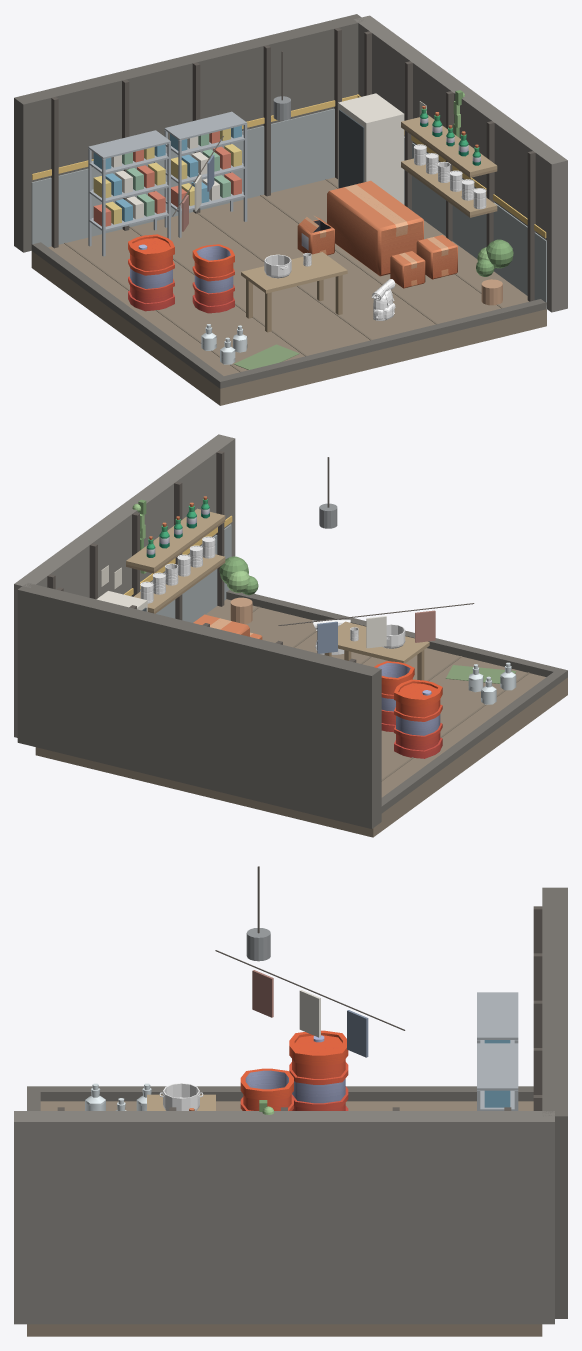
Rendered from pantry.glb.
3 views of the same model, one above another, from view 1: azimuth 30°, elevation 25°; view 2: azimuth 150°, elevation 25°; view 3: azimuth 270°, elevation 25° (orthographic). The views are drawn at different scales.
Parts seen in each view (by area): view 1: floor, wallY, wallX, tilesY, box-large, tilesX, fr, curbY, barrel, curbX, barrel-open, table (+25 smaller); view 2: wallY, floor, wallX, barrel, curbX, curbY, tilesX, shelf.007, table, barrel-open, shelf.006, bx-2 (+9 smaller); view 3: wallX, floor, wallY, curbX, barrel, barrel-open, top, top.001, Pot, cloth.001, cloth, cloth.002 (+1 smaller).
Part boxes in pixels (x1,y1,x2,y2): floor: (31, 177, 546, 405); wallY: (14, 14, 363, 252); wallX: (354, 15, 567, 312); tilesY: (31, 108, 334, 247); box-large: (327, 180, 423, 276); tilesX: (404, 136, 546, 309); fr: (338, 93, 404, 204); curbY: (215, 299, 546, 388); barrel: (128, 234, 174, 311); curbX: (31, 242, 228, 388); barrel-open: (192, 244, 234, 313); table: (241, 252, 347, 293); wallY: (17, 583, 381, 828); floor: (35, 599, 567, 837); wallX: (14, 434, 235, 737); barrel: (394, 679, 442, 758); curbX: (381, 668, 567, 813); curbY: (226, 590, 567, 680); tilesX: (140, 524, 231, 622); shelf.007: (126, 508, 225, 571); table: (338, 621, 429, 663); barrel-open: (374, 661, 414, 732); shelf.006: (133, 554, 225, 612); bx-2: (216, 450, 224, 606); wallX: (14, 1111, 554, 1324); floor: (27, 1101, 542, 1336); wallY: (542, 887, 567, 1318); curbX: (27, 1086, 533, 1101); barrel: (289, 1030, 348, 1110); barrel-open: (240, 1068, 293, 1110); top: (477, 992, 518, 1039); top.001: (477, 1043, 518, 1090); Pot: (159, 1083, 203, 1110); cloth.001: (299, 990, 320, 1037); cloth: (252, 970, 273, 1017); cloth.002: (347, 1010, 368, 1057).
Bounding box in the file's own units: 6.45 × 4.5 × 6.45.
Materials: 62 (11 with a texture image).
